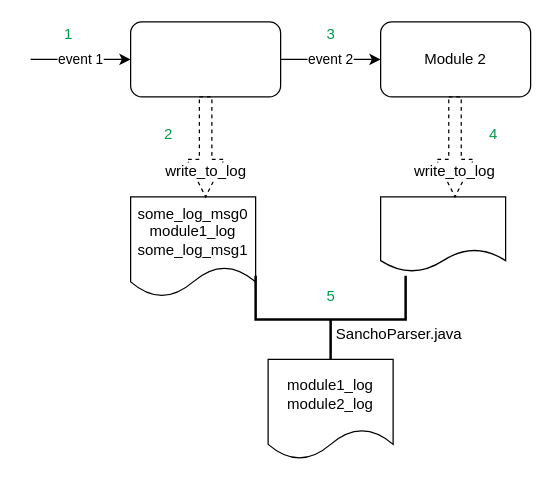
The diagram is 553 pixels wide and 481 high, and some of its shapes have lost their labels. The centre of each missing label's shape, as x and y in pixels:
"Module 1" belongs at [205,59].
"some_log_msg0 some_log_msg1 module2_log" belongs at [442,234].
